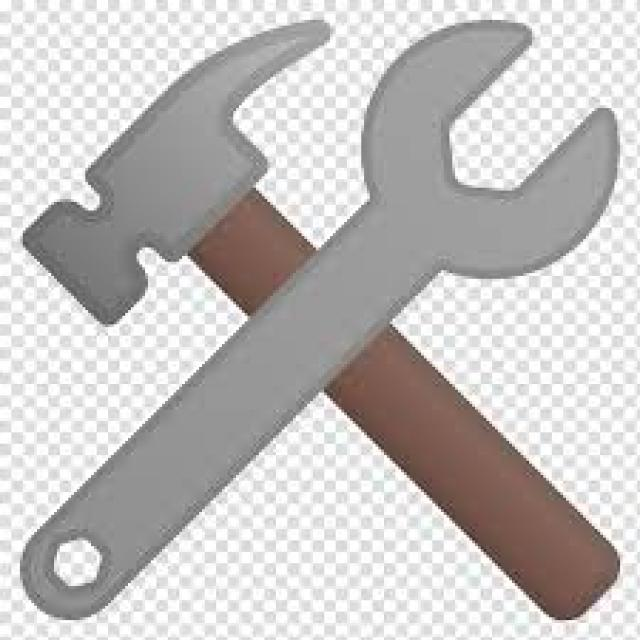Hammer: (15, 11, 355, 418)
Wrench: (234, 9, 629, 419)
